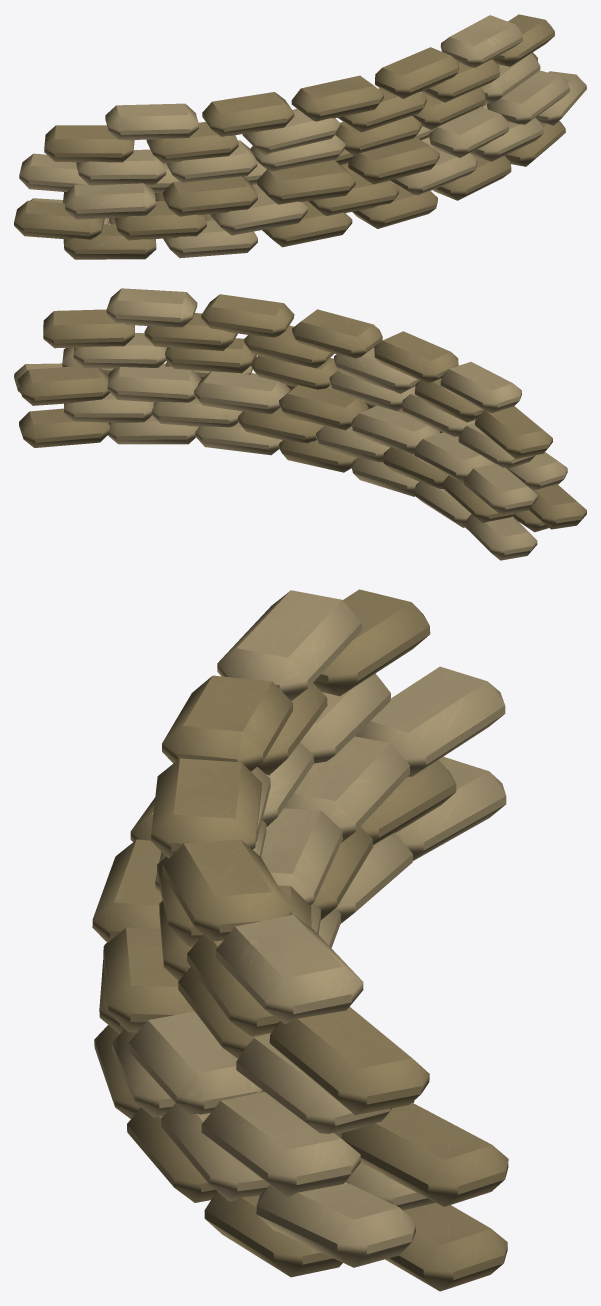
Rendered from sandbag_wall.glb.
The picture shows the model from 3 angles, top to bottom: view 1: azimuth 30°, elevation 25°; view 2: azimuth 150°, elevation 25°; view 3: azimuth 270°, elevation 25°; orthographic projection. The views are drawn at different scales.
Parts seen in each view (by area): view 1: sandbag_wall; view 2: sandbag_wall; view 3: sandbag_wall.
Part boxes in pixels (left/top/right/bottom): sandbag_wall: left=14, top=14, right=586, bottom=259; sandbag_wall: left=14, top=288, right=586, bottom=560; sandbag_wall: left=92, top=589, right=508, bottom=1291.
Bounding box in the file's own units: 4.31 × 0.9796 × 1.37.
2 materials, 2 textured.
